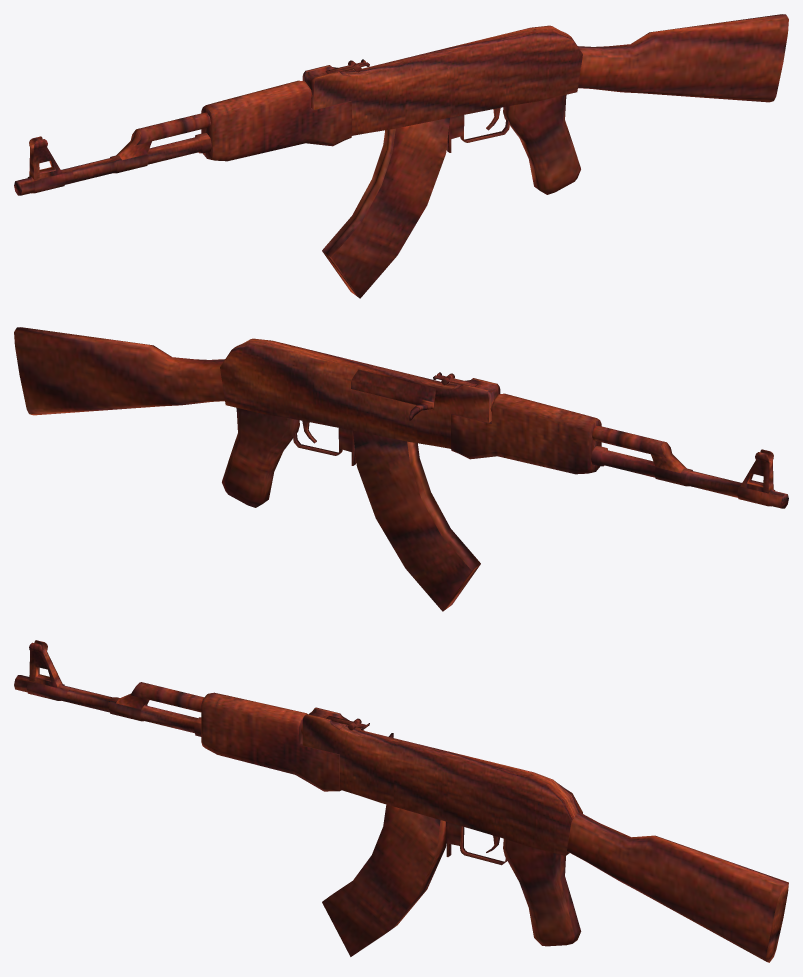
3 renders of one model, top to bottom at view 1: azimuth 30°, elevation 25°; view 2: azimuth 150°, elevation 25°; view 3: azimuth 330°, elevation 25°, orthographic.
Visible parts, largest first — view 1: AK47; view 2: AK47; view 3: AK47.
Part boxes in pixels (bbox=[...]): AK47: bbox=[14, 14, 788, 298]; AK47: bbox=[14, 327, 788, 611]; AK47: bbox=[14, 640, 788, 962].
Bounding box in the file's own units: 216 × 63.01 × 15.03.
